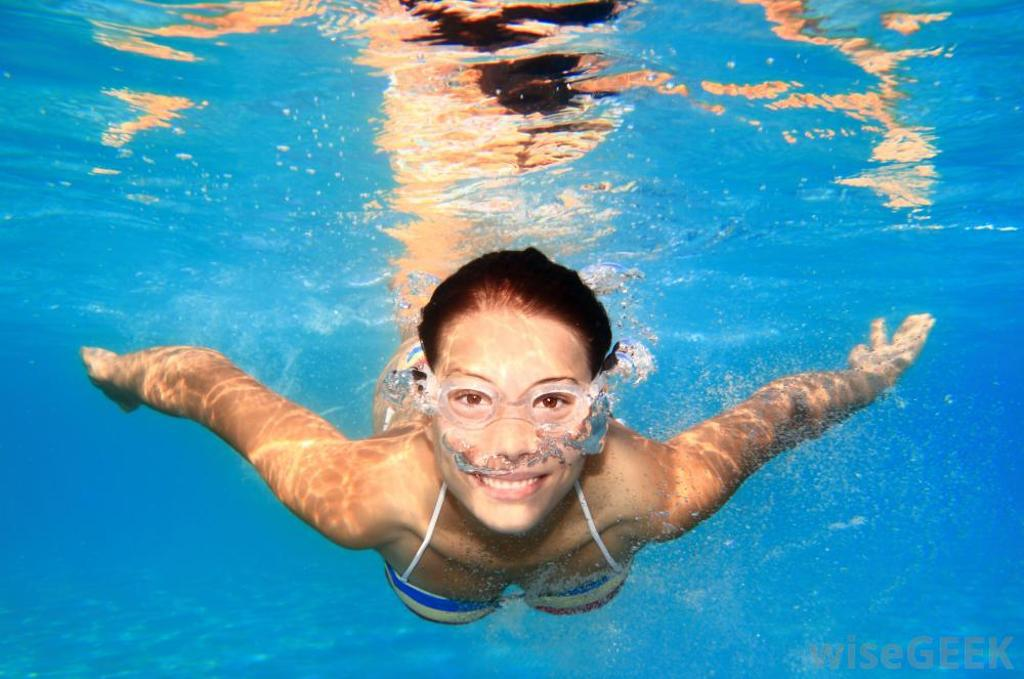face: (443, 347, 589, 533)
